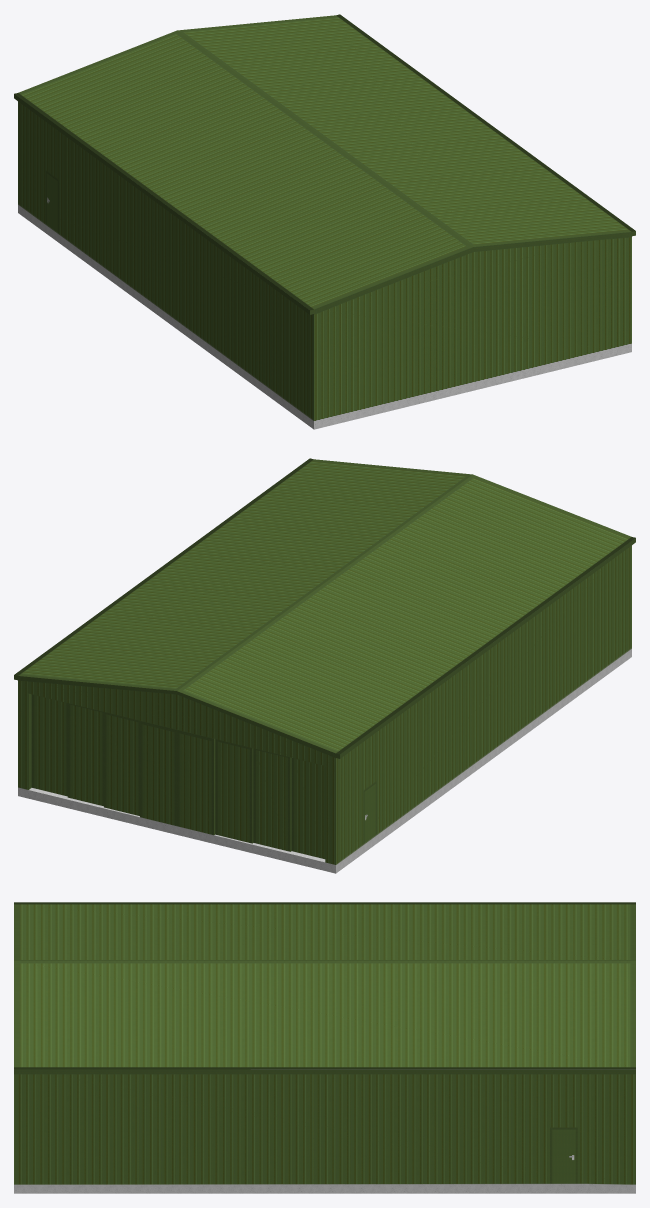
Rendered from hangar-16x25x5green-cbj_LOD00.gltf.
The picture shows the model from 3 angles, top to bottom: view 1: azimuth 30°, elevation 25°; view 2: azimuth 150°, elevation 25°; view 3: azimuth 270°, elevation 25°; orthographic projection. The views are drawn at different scales.
Parts seen in each view (by area): view 1: hangar; view 2: hangar; view 3: hangar.
Boxes of the visible parts, left/top/right/bottom form: hangar: left=14, top=14, right=635, bottom=429; hangar: left=14, top=458, right=635, bottom=873; hangar: left=14, top=902, right=635, bottom=1193.
Bounding box in the file's own units: 15.9 × 6.7 × 25.
